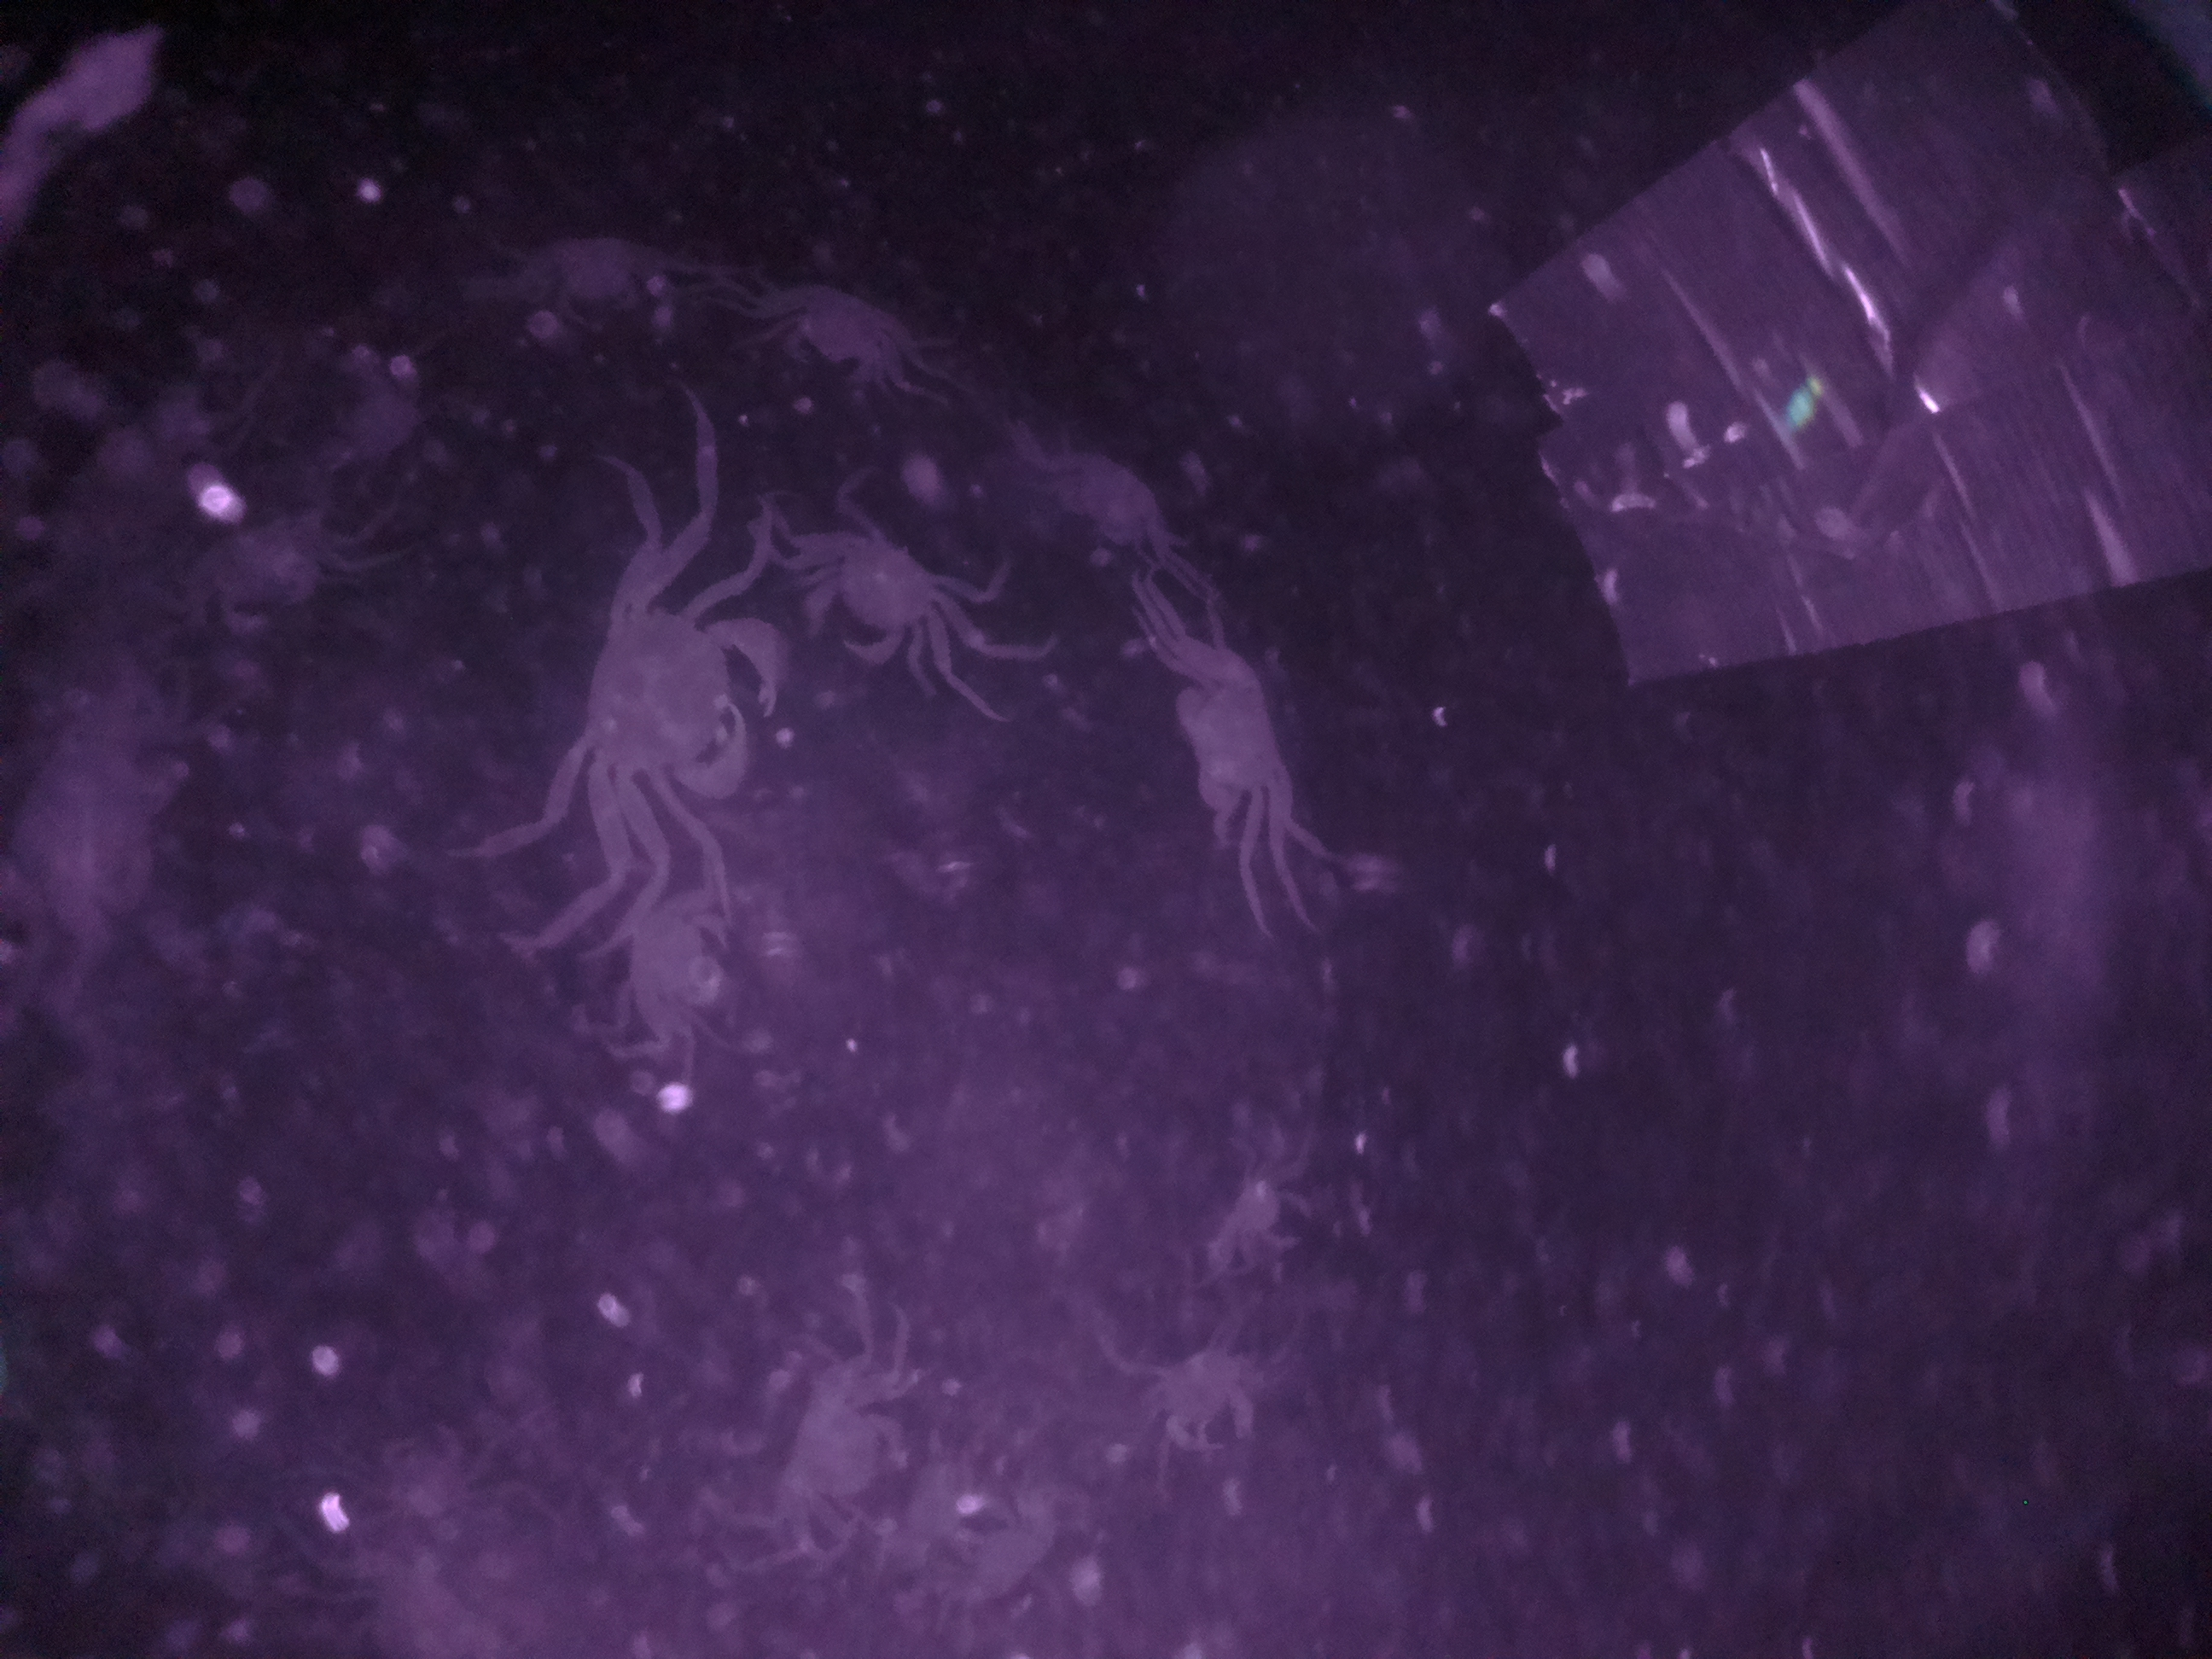Crab: (564, 572, 805, 831), (1162, 640, 1306, 852), (792, 516, 965, 676)
